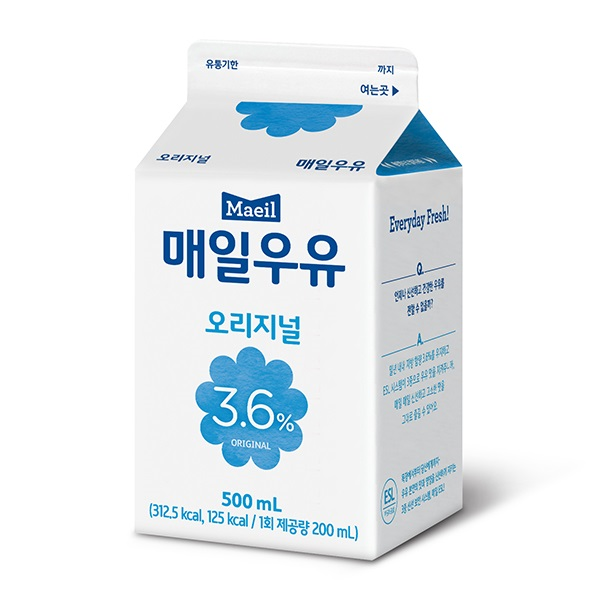milk: (133, 45, 462, 562)
